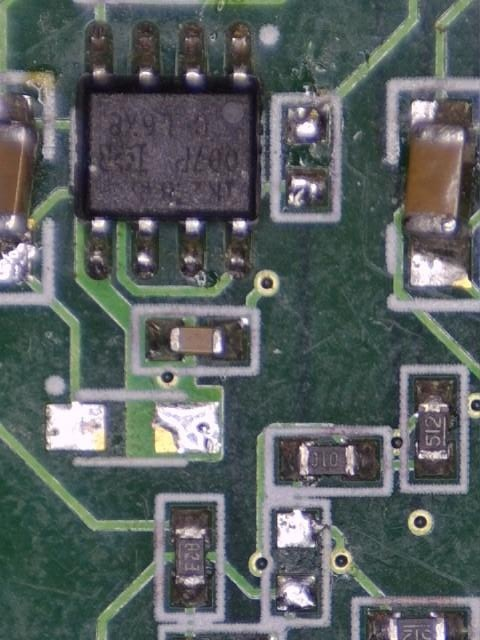pcb_defect: (402, 98, 473, 288), (0, 90, 38, 283)
